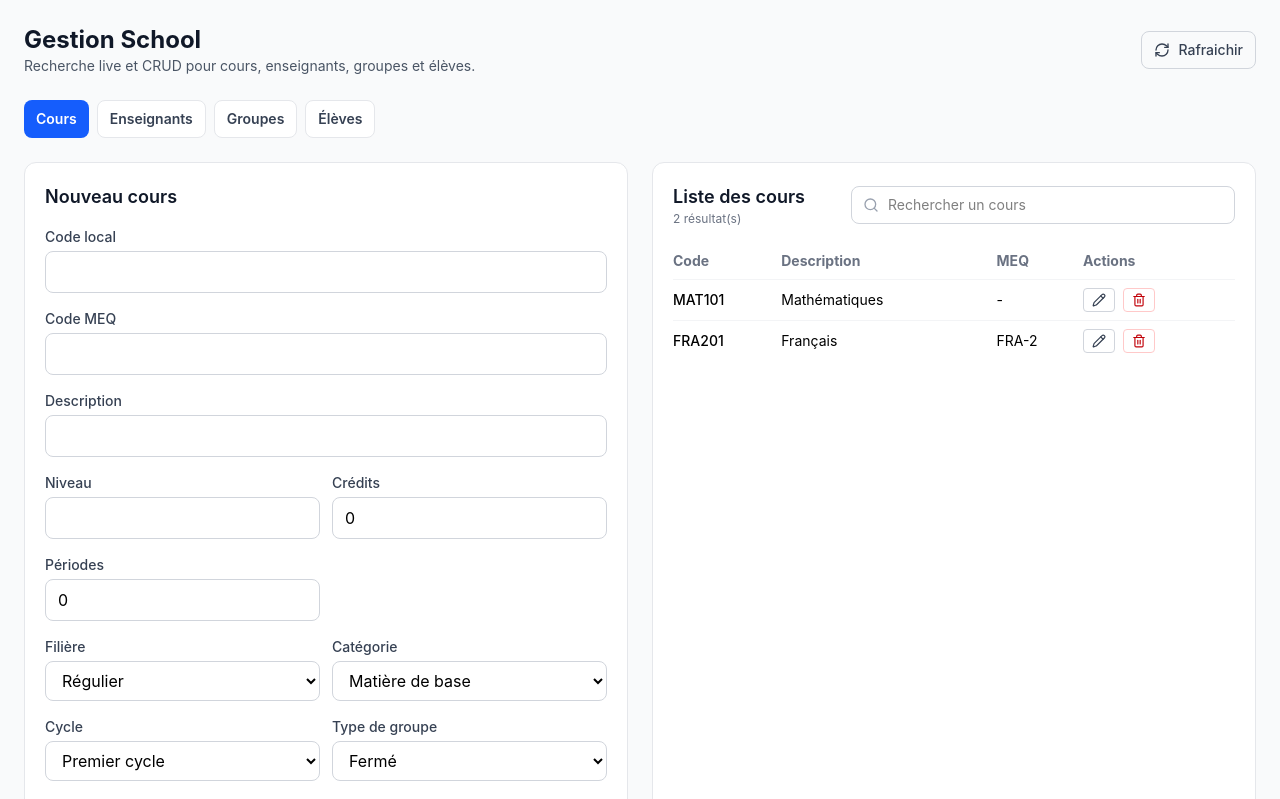
Scenario: SchoolCrudV2 › filters courses and students as you type
The width and height of the screenshot is (1280, 799).
Expected: the text "MAT101" is shown, left=673, top=280, right=781, bottom=320
In the field with placeholder "Rechercher un cours": coordinates (1043, 205) left=851, top=186, right=1235, bottom=224, type "fra"
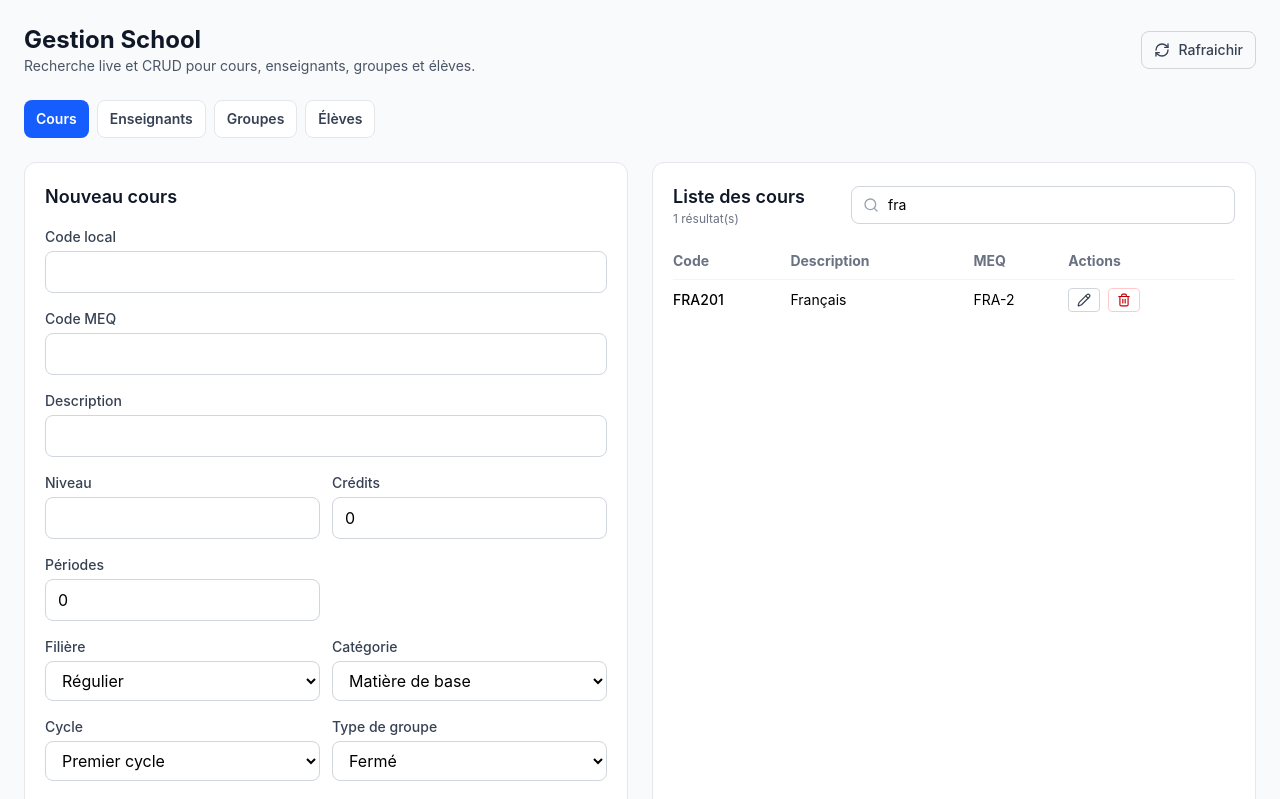
Expected: the text "FRA201" is shown, left=673, top=280, right=790, bottom=320
Result: the text "MAT101" is gone
Click the button "Élèves": coordinates (340, 119) left=305, top=100, right=375, bottom=138
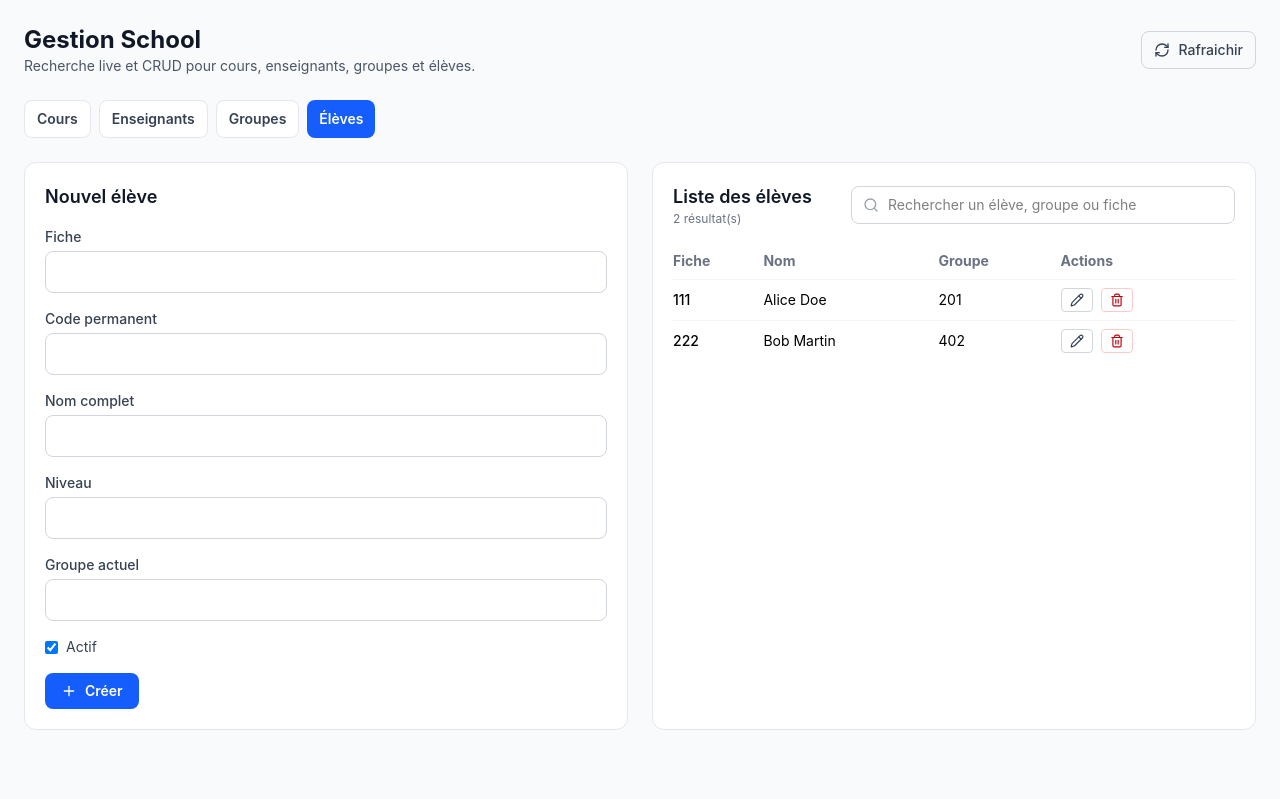
Result: the text "Alice Doe" is shown at left=763, top=280, right=939, bottom=320
In the field with placeholder "Rechercher un élève, groupe ou fiche": coordinates (1043, 205) left=851, top=186, right=1235, bottom=224, type "402"
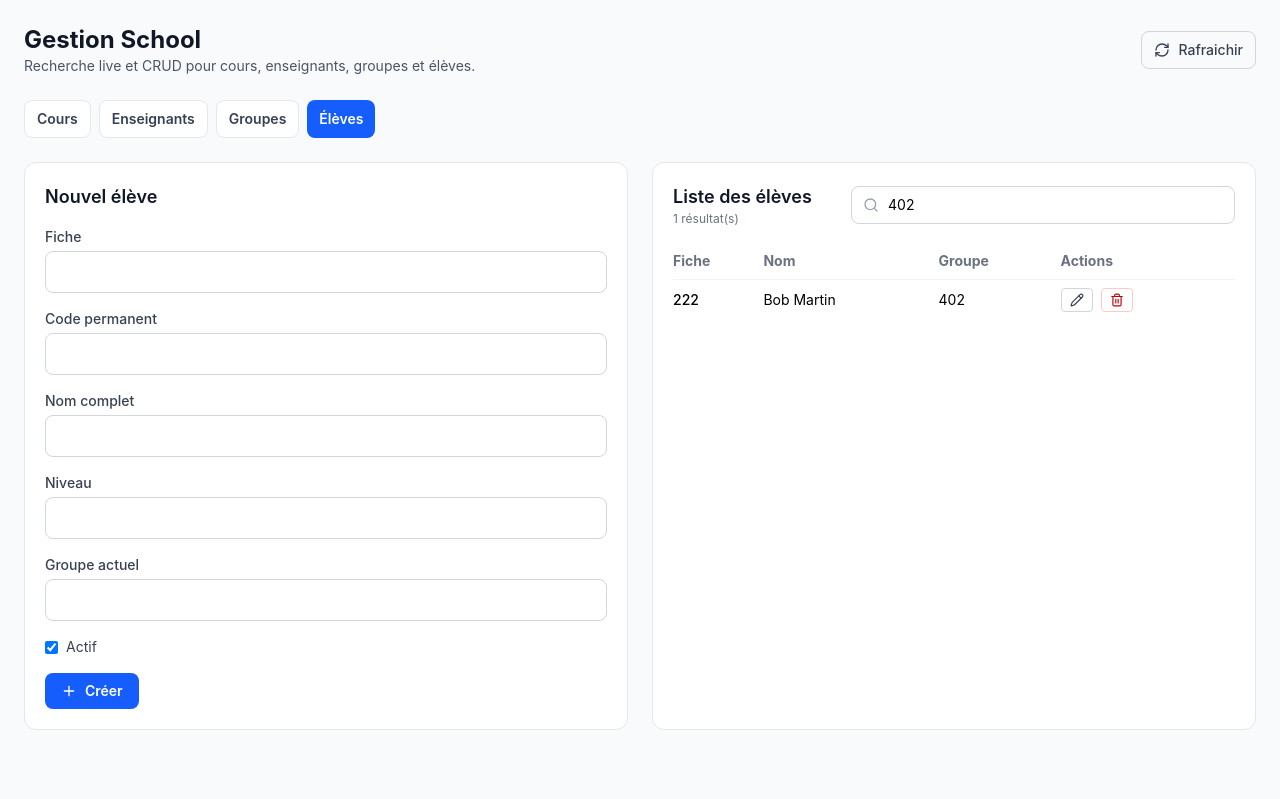
Result: the text "Bob Martin" is shown at left=763, top=280, right=939, bottom=320
Result: the text "Alice Doe" is gone
